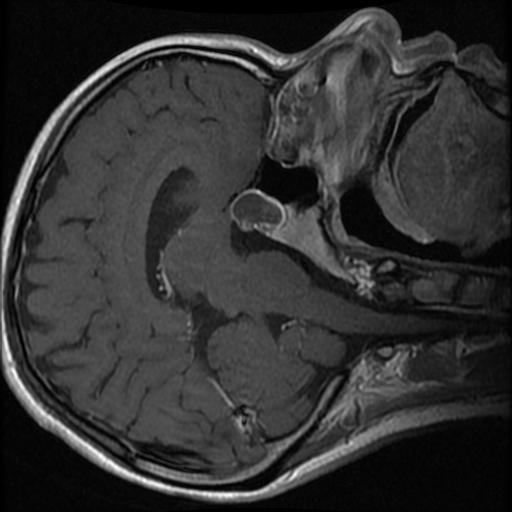pituitary tumour: (230, 192, 285, 231)
